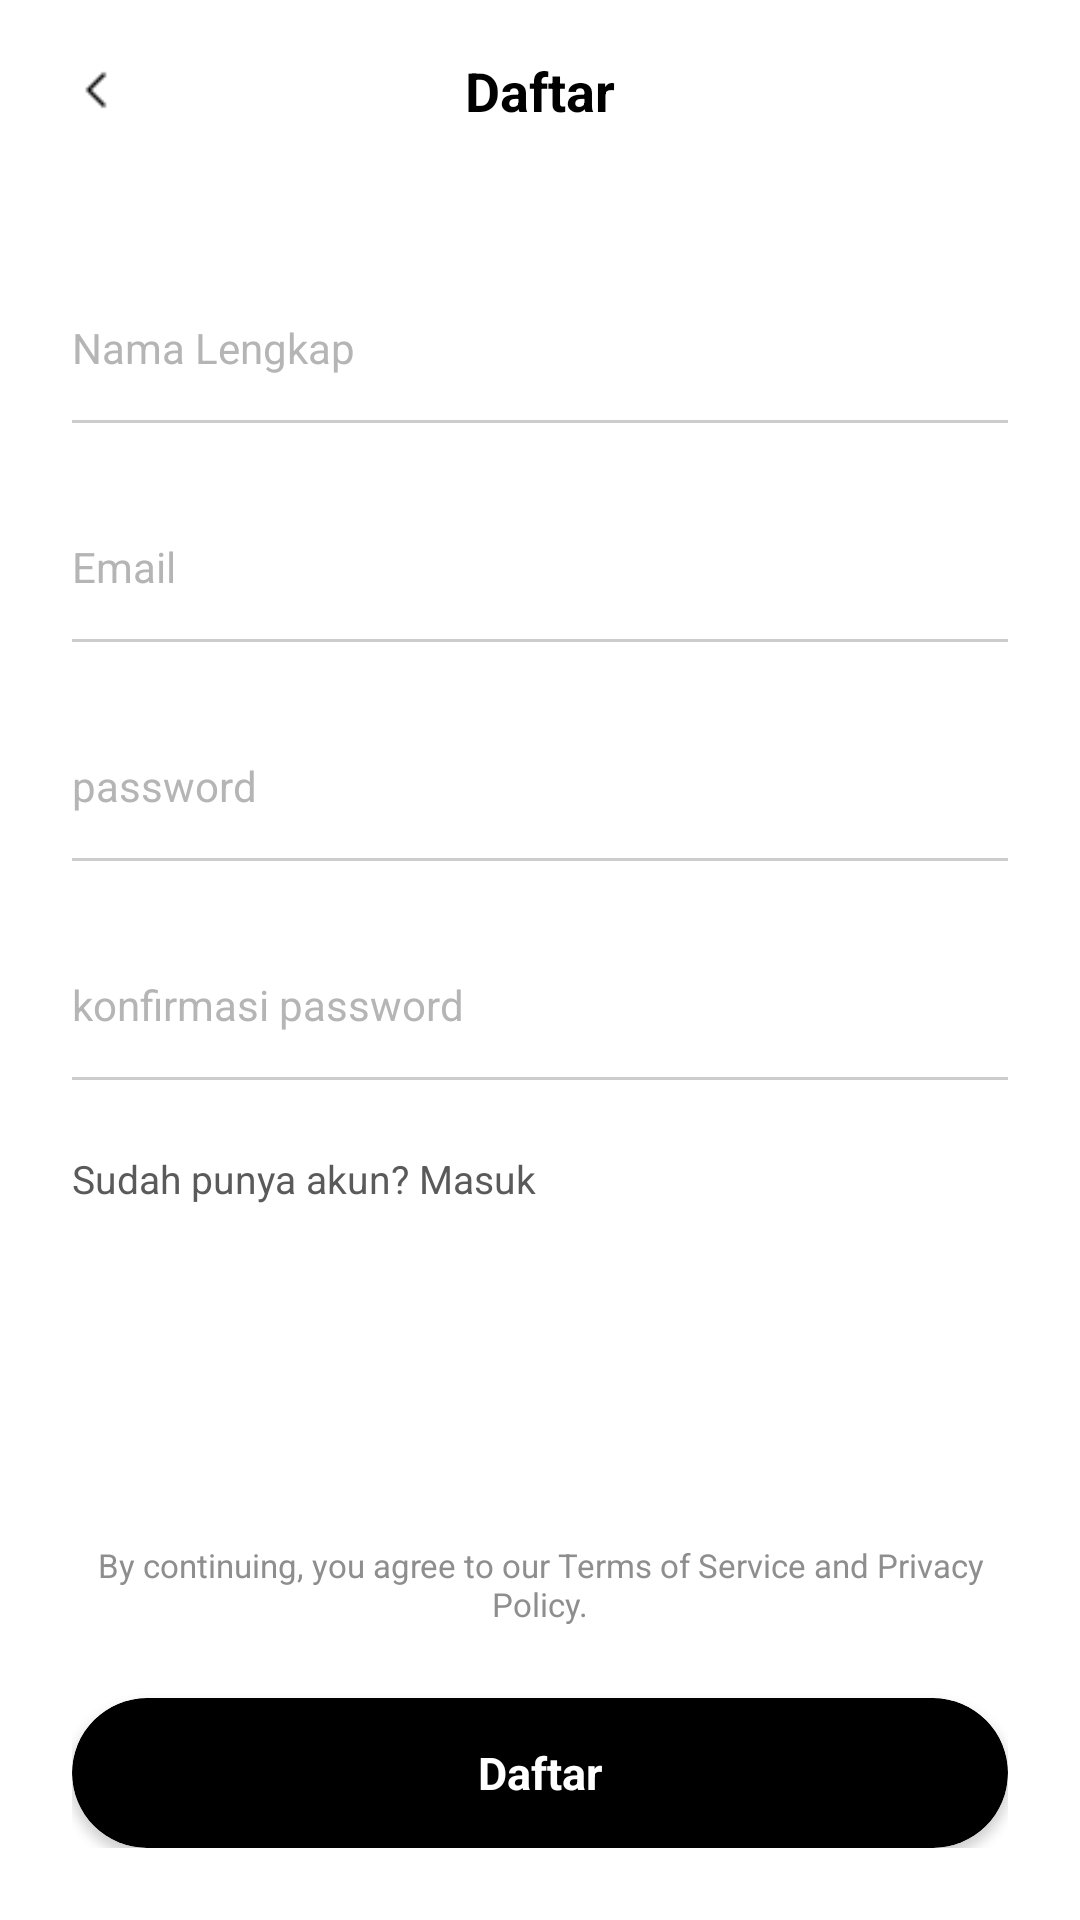

Locate icon controls on the screen. Image size 1080px x 1920px, boxes as (x1, y1, x2, y2).
back: (85, 72, 107, 108)
